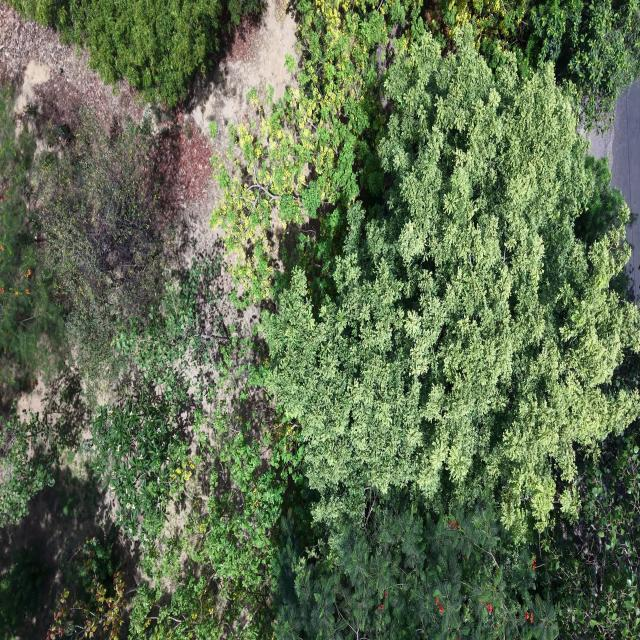DRY_AREA: (0, 0, 297, 268), (0, 0, 295, 268), (0, 3, 212, 228), (155, 0, 295, 265), (160, 0, 296, 252), (0, 446, 112, 638), (0, 3, 148, 146), (0, 2, 146, 126), (0, 3, 144, 125), (188, 0, 297, 157), (190, 0, 297, 155), (192, 2, 296, 130), (610, 82, 639, 302)
PATHWAYS: (590, 82, 639, 302)
VEGETATION_TREE: (0, 0, 639, 639), (216, 24, 637, 637), (263, 29, 638, 530), (212, 0, 639, 300), (49, 262, 303, 639), (90, 262, 302, 639), (0, 90, 169, 530), (212, 0, 420, 302), (0, 88, 167, 401), (296, 0, 639, 125), (275, 492, 557, 639), (88, 262, 224, 553), (130, 414, 300, 639), (38, 112, 170, 375), (426, 0, 639, 127), (10, 0, 261, 106), (211, 90, 313, 304), (542, 426, 639, 639), (0, 87, 60, 402), (0, 86, 60, 395), (92, 387, 190, 546), (524, 0, 639, 126), (47, 529, 126, 639), (0, 405, 55, 526), (0, 547, 49, 639)
